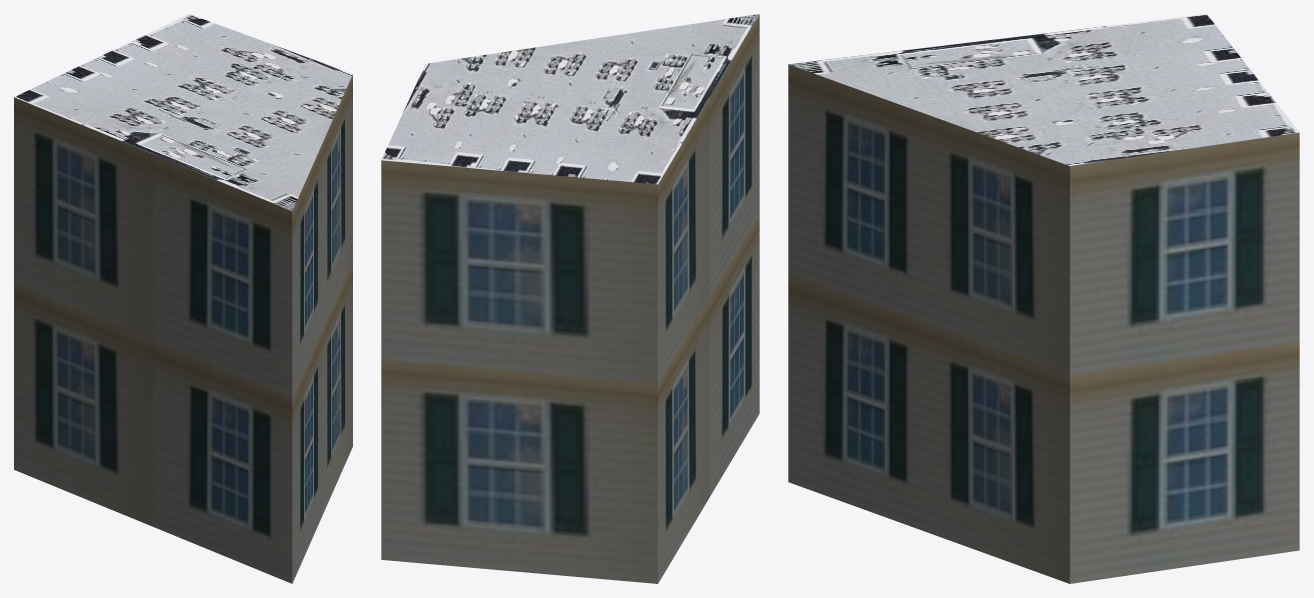
Rendered from ResTex__1723.fbx.
The picture shows the model from 3 angles, left to right: view 1: azimuth 30°, elevation 25°; view 2: azimuth 150°, elevation 25°; view 3: azimuth 270°, elevation 25°; orthographic projection. The views are drawn at different scales.
Visible parts, largest first — view 1: CityEngineMaterial_7_m, CityEngineMaterial_4_m; view 2: CityEngineMaterial_7_m, CityEngineMaterial_4_m; view 3: CityEngineMaterial_7_m, CityEngineMaterial_4_m.
Boxes of the visible parts, left/top/right/bottom form: CityEngineMaterial_7_m: left=14, top=74, right=352, bottom=583; CityEngineMaterial_4_m: left=14, top=14, right=352, bottom=211; CityEngineMaterial_7_m: left=381, top=14, right=759, bottom=583; CityEngineMaterial_4_m: left=381, top=14, right=759, bottom=184; CityEngineMaterial_7_m: left=788, top=64, right=1299, bottom=583; CityEngineMaterial_4_m: left=789, top=14, right=1299, bottom=165.
Size of the model in its own units: 4.68 by 6 by 6.66.
2 materials, 2 textured.
